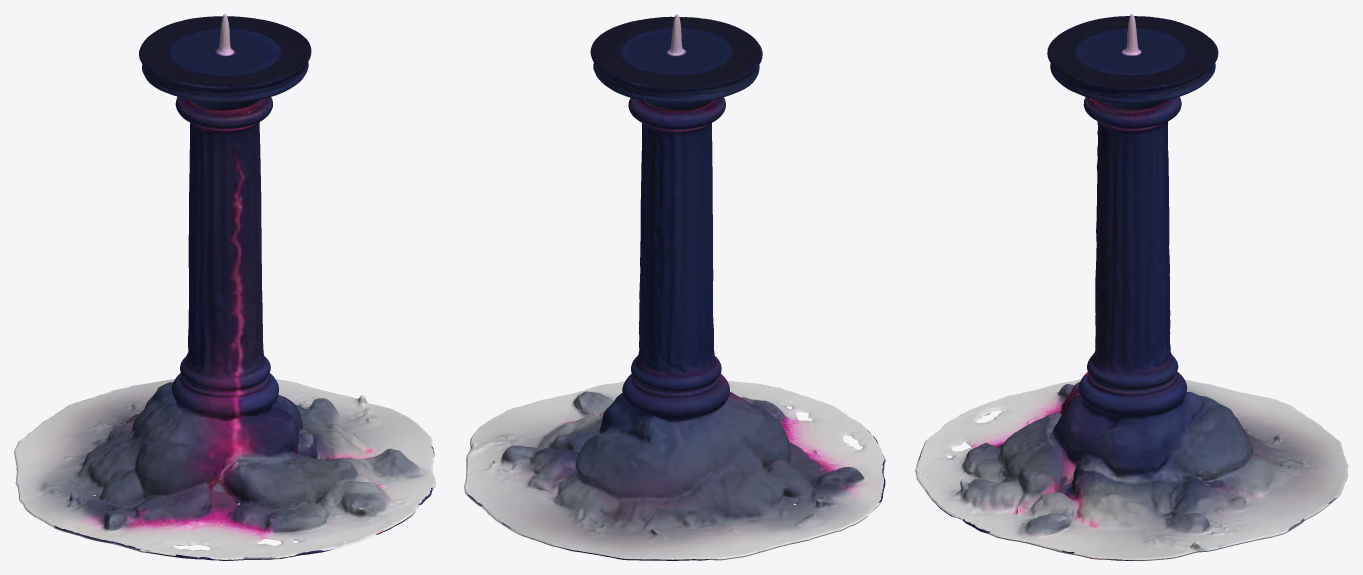
File: weathered-monolith-pillar-generated-2026-04-19T23-33-28-476Z.low.glb
The picture shows the model from 3 angles, left to right: view 1: azimuth 30°, elevation 25°; view 2: azimuth 150°, elevation 25°; view 3: azimuth 270°, elevation 25°; orthographic projection.
Visible parts, largest first — view 1: temp_mesh.ply; view 2: temp_mesh.ply; view 3: temp_mesh.ply.
Boxes of the visible parts, x1,y1,x2,y2 form: temp_mesh.ply: [14, 14, 435, 560]; temp_mesh.ply: [464, 14, 885, 560]; temp_mesh.ply: [914, 14, 1348, 560].
Size of the model in its own units: 1.73 by 1.97 by 1.71.
1 material, 1 textured.
